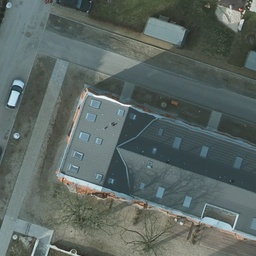car: (5, 78, 26, 109), (59, 0, 90, 16), (0, 144, 8, 178)
